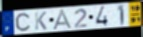1: (117, 4, 126, 26)
2: (73, 8, 89, 29)
4: (94, 6, 110, 28)
A: (52, 9, 74, 31)
C: (15, 12, 32, 32)
K: (34, 11, 48, 31)
